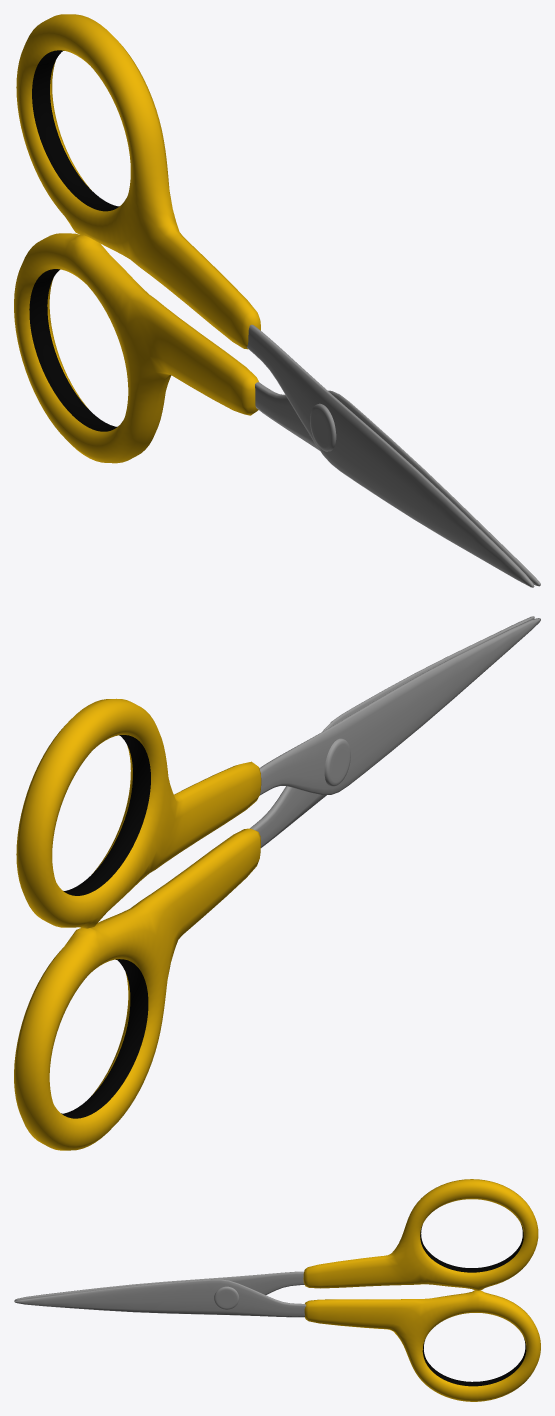
Rendered from scissors.fbx.
3 views of the same model, one above another, from view 1: azimuth 30°, elevation 25°; view 2: azimuth 150°, elevation 25°; view 3: azimuth 270°, elevation 25° (orthographic). The views are drawn at different scales.
Visible parts, largest first — view 1: scissors1, scissors2, pivot; view 2: scissors1, scissors2, pivot; view 3: scissors2, scissors1, pivot.
Part boxes in pixels (x1,y1,x2,y2): scissors1: (16,14,534,587); scissors2: (14,233,540,586); pivot: (310,403,336,451); scissors1: (16,618,540,928); scissors2: (14,616,534,1150); pivot: (324,738,350,786); scissors2: (14,1279,540,1401); scissors1: (14,1179,538,1300); pivot: (214,1286,239,1309).
Bounding box in the file's own units: 30.1 × 400 × 865.
